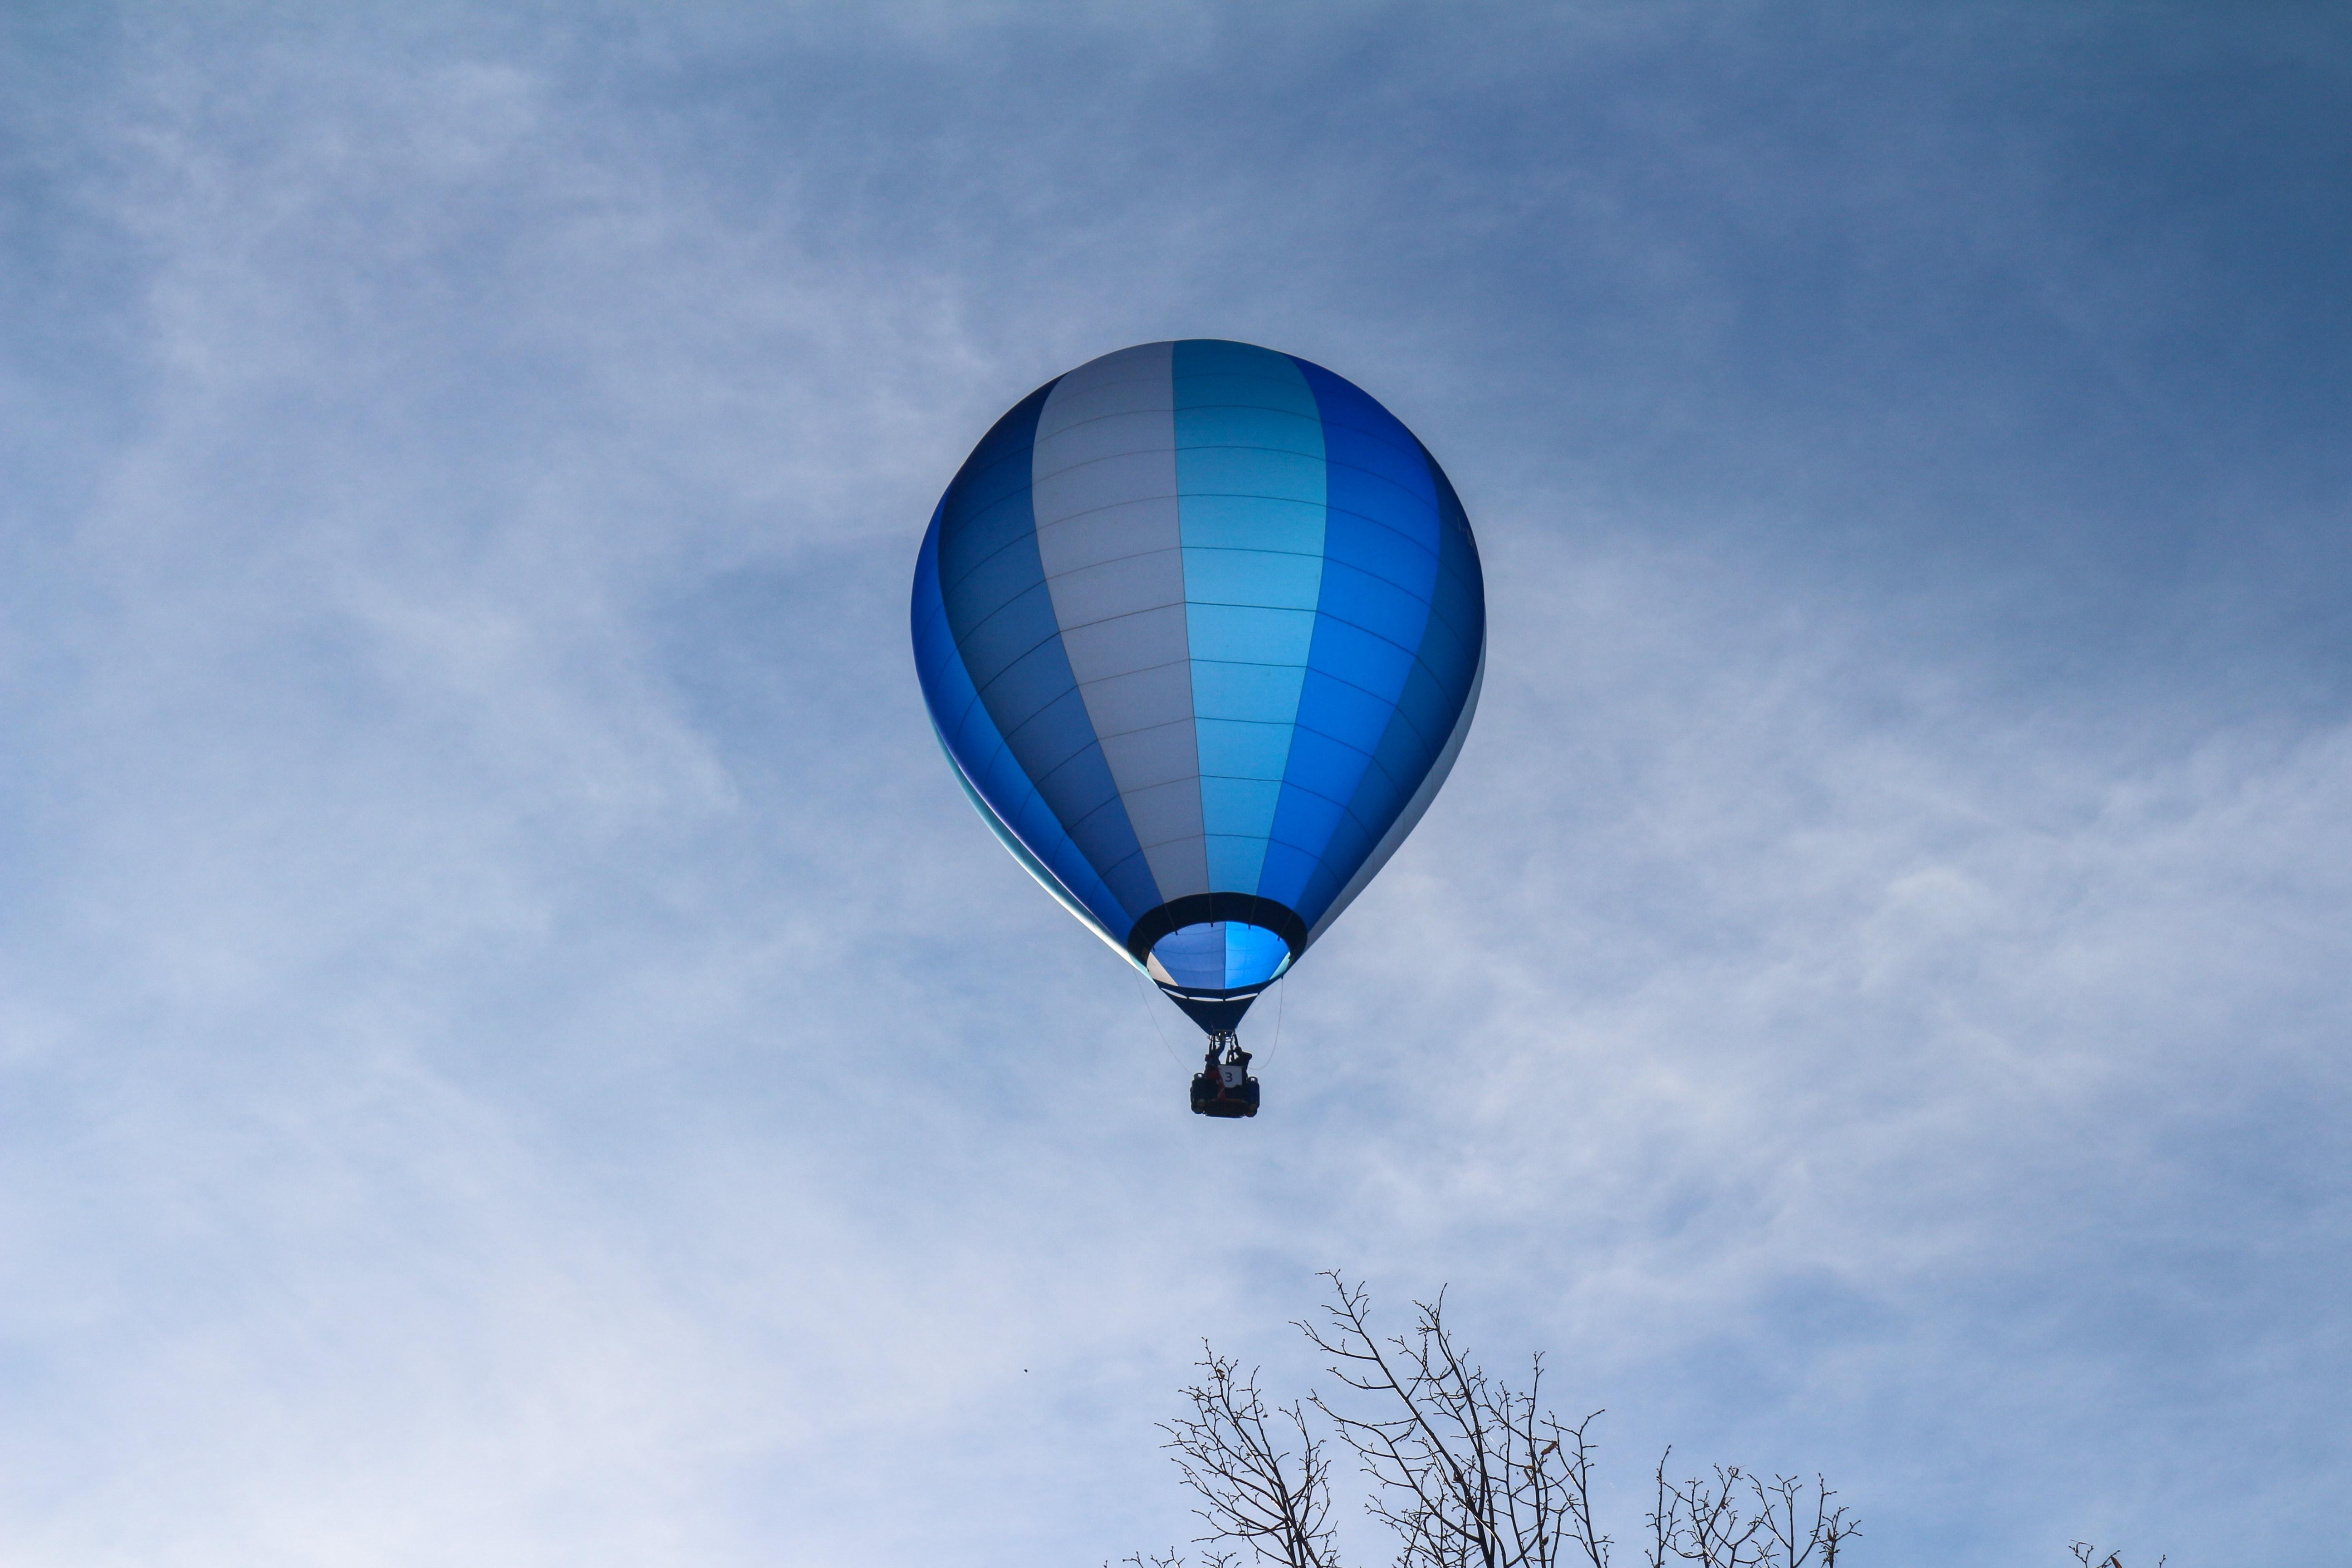hot air ballon: (919, 340, 1489, 1123)
